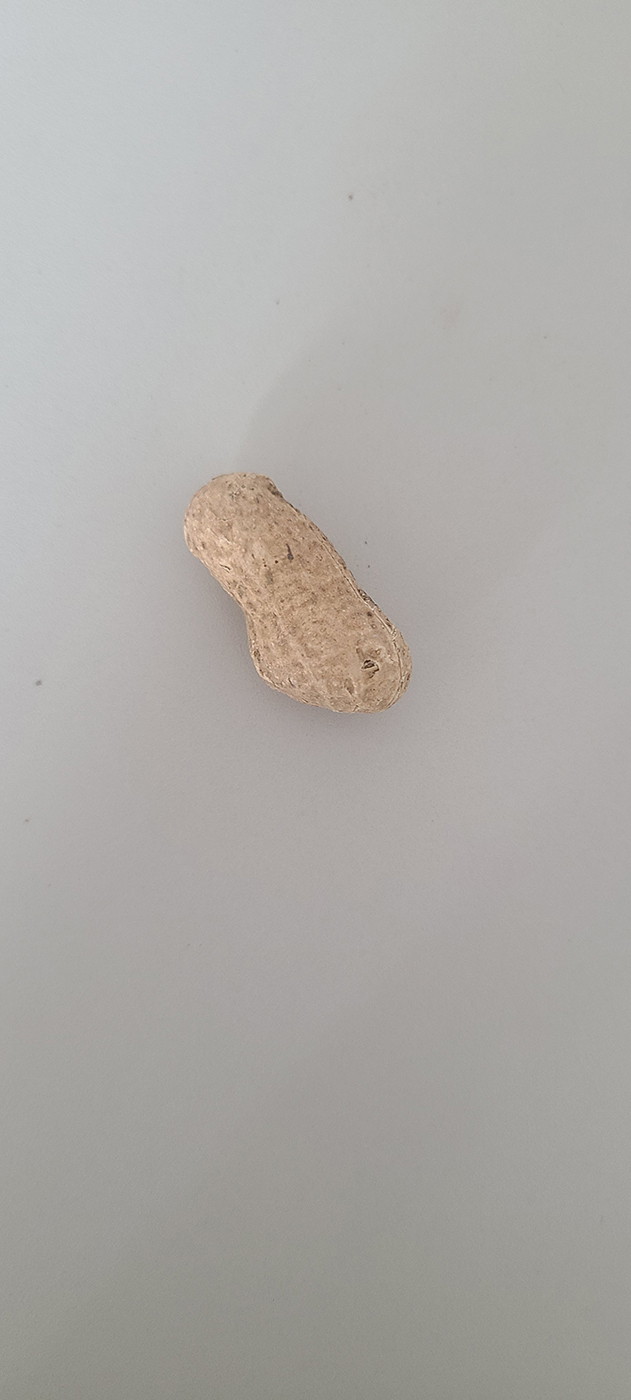h: (181, 471, 412, 716)
